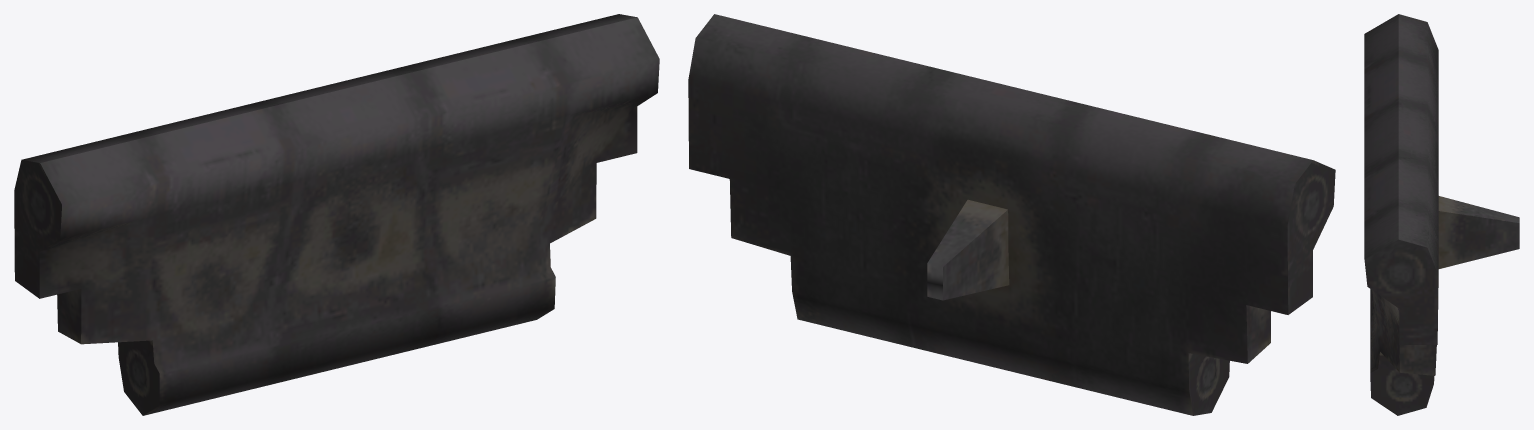
Rendered from T23_track.glb.
3 renders of one model, left to right at view 1: azimuth 30°, elevation 25°; view 2: azimuth 150°, elevation 25°; view 3: azimuth 270°, elevation 25°, orthographic. The views are drawn at different scales.
Visible parts, largest first — view 1: set_0_group_0; view 2: set_0_group_0; view 3: set_0_group_0.
Part boxes in pixels (left/top/right/bottom): set_0_group_0: left=14, top=14, right=659, bottom=415; set_0_group_0: left=688, top=14, right=1335, bottom=415; set_0_group_0: left=1364, top=14, right=1519, bottom=415.
Bounding box in the file's own units: 0.4876 × 0.2163 × 0.1416.
1 material, 1 textured.
